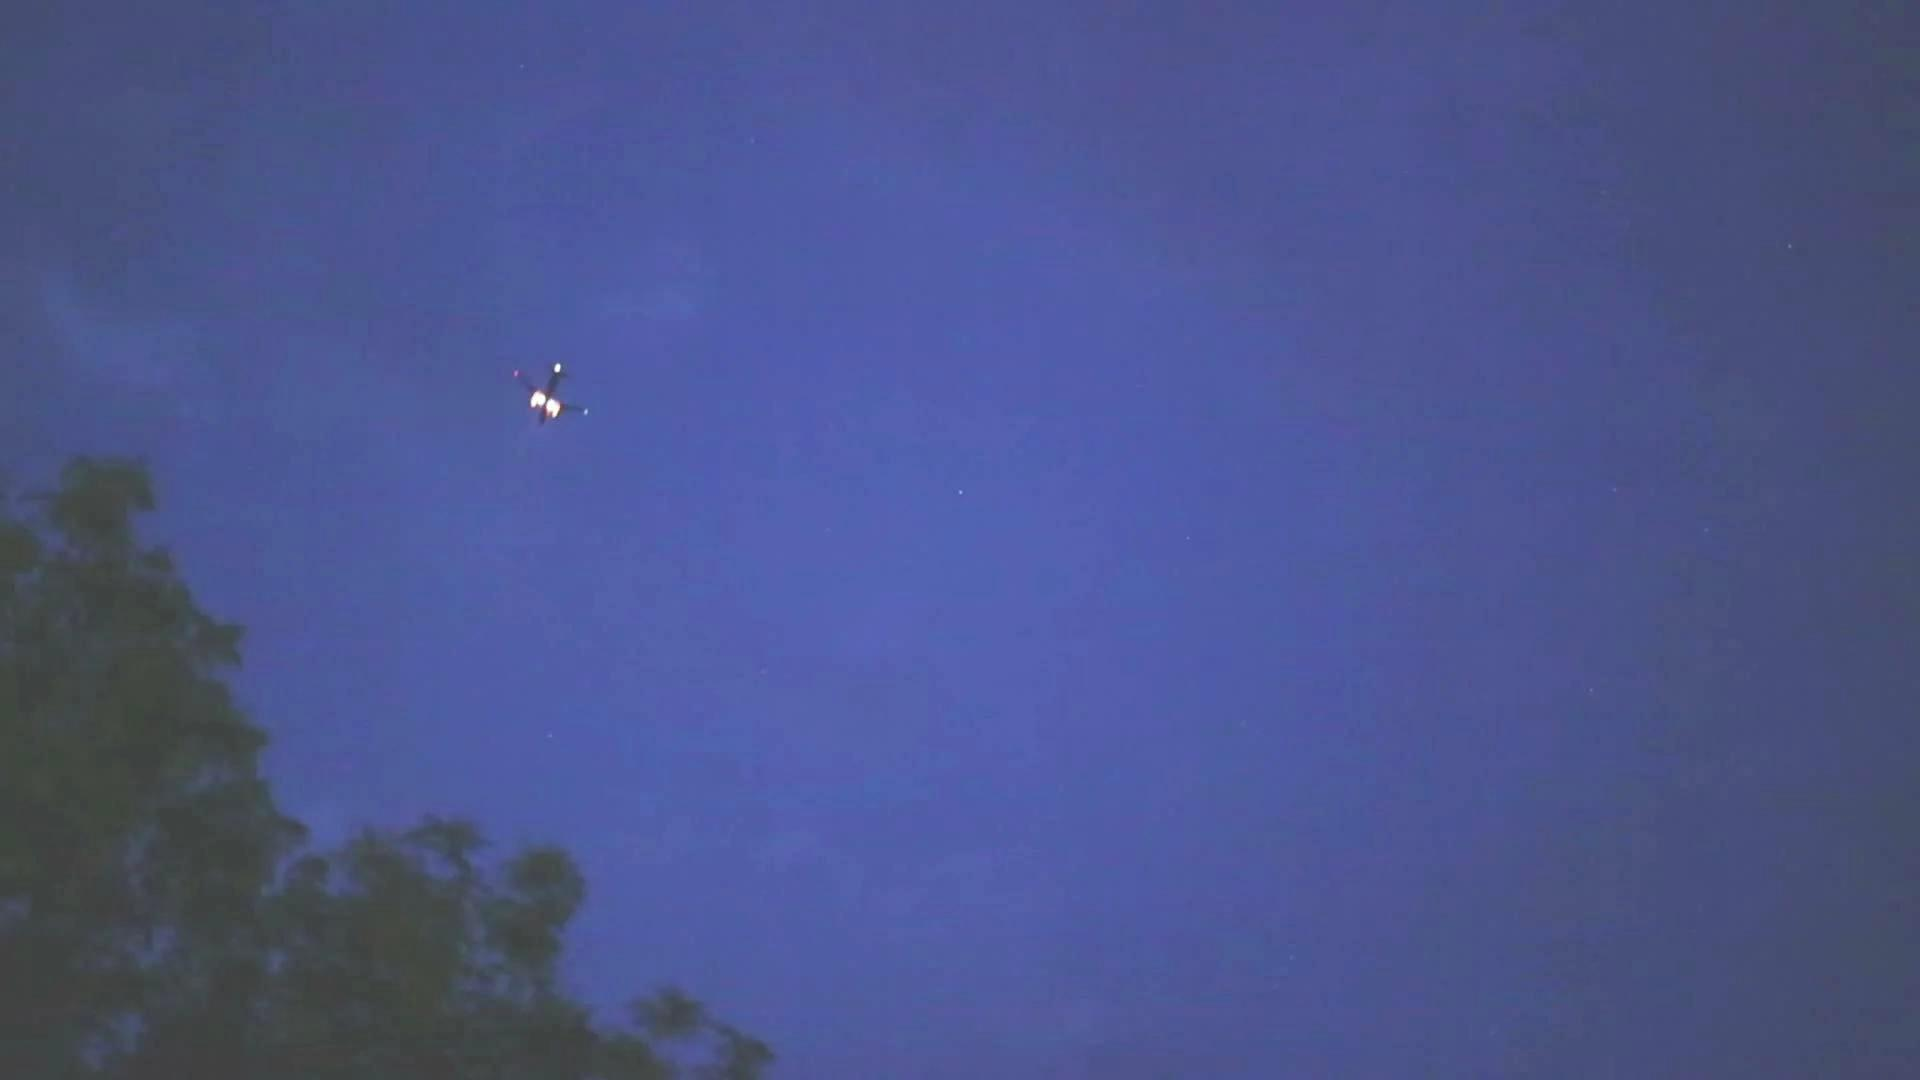Plane: (493, 345, 608, 440)
